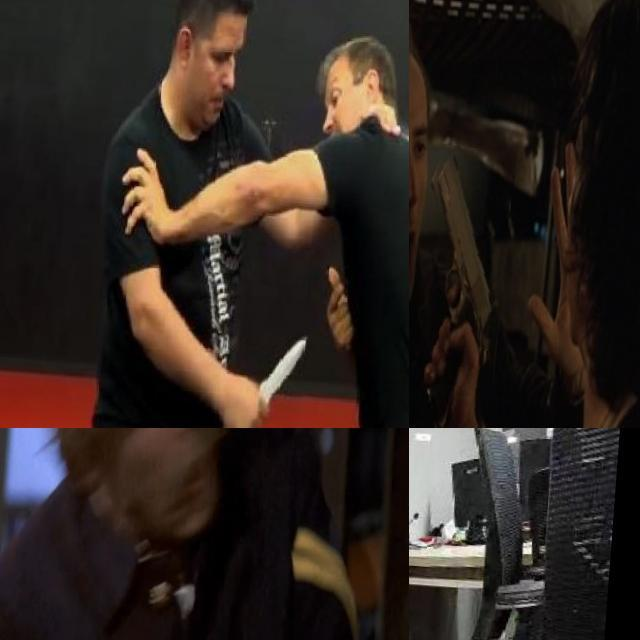-: (229, 315, 317, 428), (409, 562, 421, 631)
gun-knife-thesis - v11 Yolov5 augmented: (414, 140, 516, 428), (226, 428, 409, 530)
